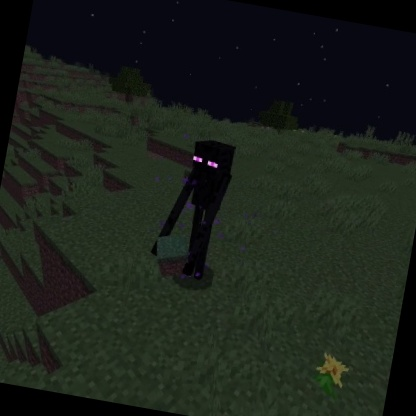enderman: (144, 130, 241, 286)
